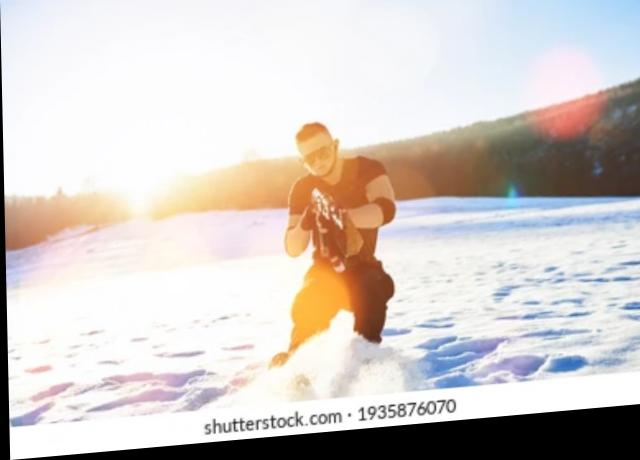other: (280, 123, 389, 359)
